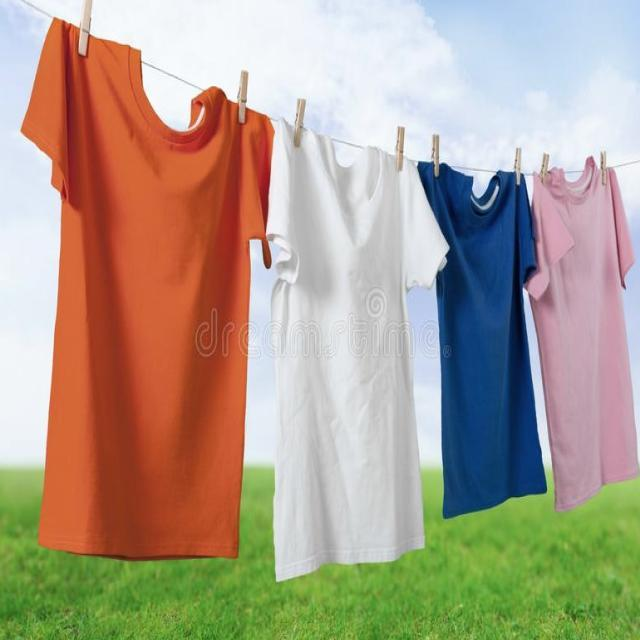clothes: (28, 0, 256, 575), (260, 96, 438, 572), (418, 139, 548, 518), (530, 160, 640, 507)
